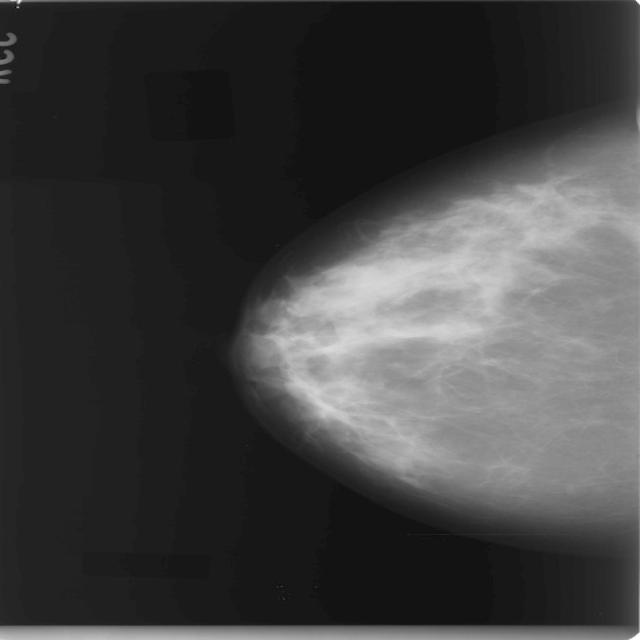tumour: (512, 176, 571, 208)
